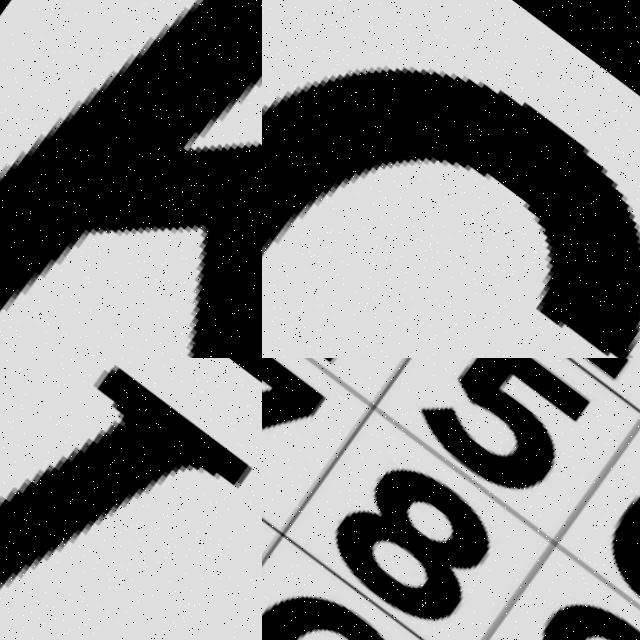0: (262, 564, 424, 640)
5: (398, 358, 601, 512)
6: (572, 444, 640, 640)
7: (262, 358, 331, 502)
8: (304, 442, 512, 640)
9: (481, 575, 640, 640)
C: (262, 66, 640, 358)
J: (0, 358, 262, 640)
K: (0, 0, 262, 358)
